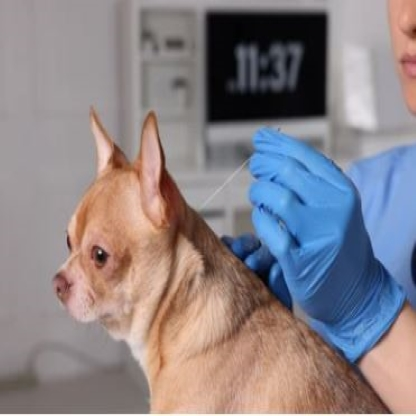chihuahua: (49, 103, 393, 414)
